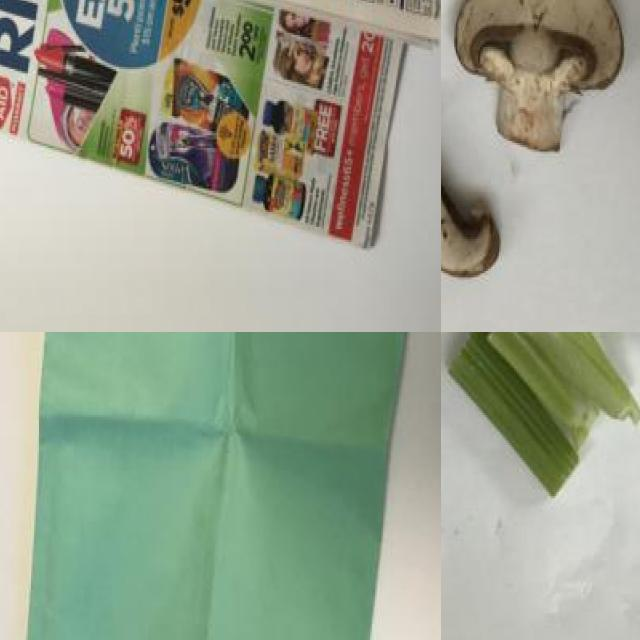compost: (441, 0, 630, 299), (449, 332, 640, 506)
paper: (31, 332, 426, 640), (0, 0, 441, 234)
